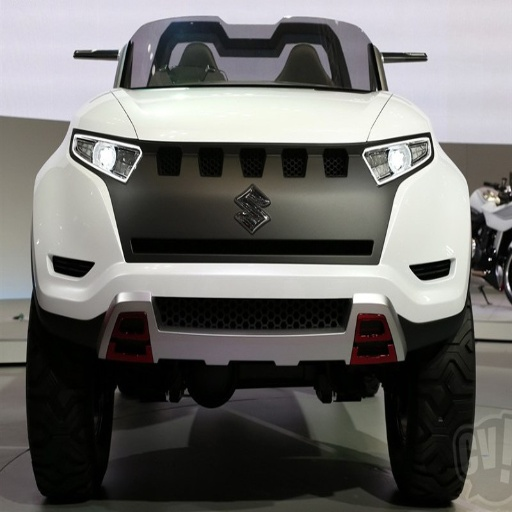back_bumper: (122, 332, 247, 363)
front_bumper: (35, 139, 257, 358), (267, 142, 467, 343)
front_right_light: (72, 130, 143, 179)
trunk: (231, 91, 324, 158), (265, 190, 303, 238)
